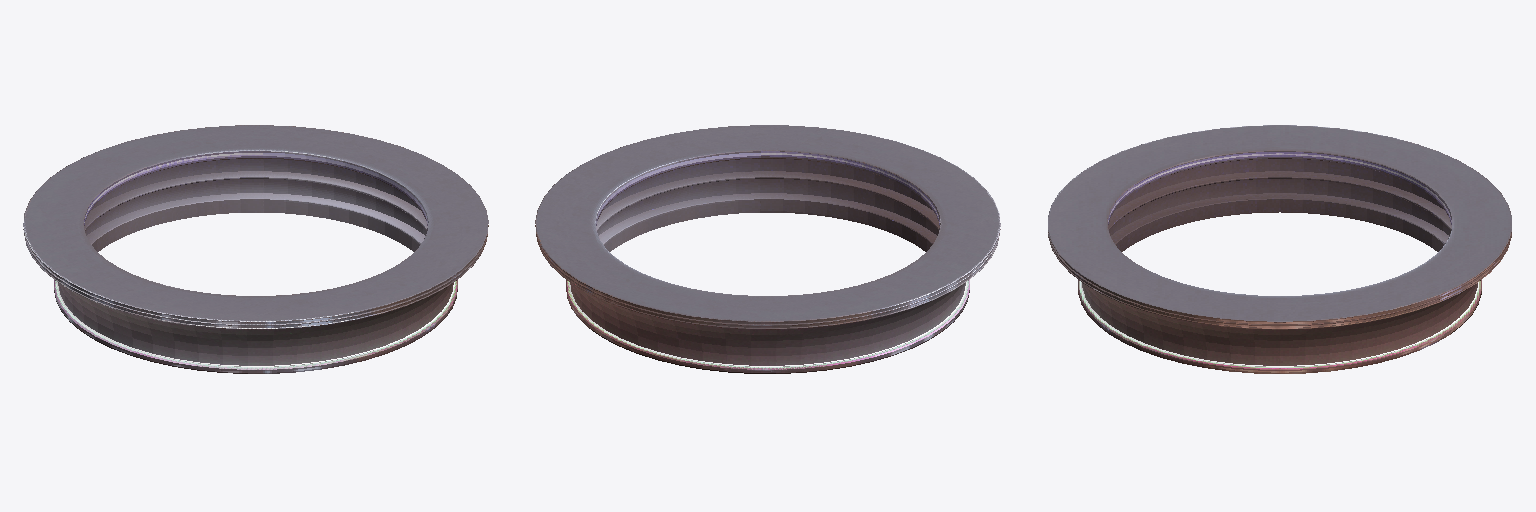
3 renders of one model, left to right at view 1: azimuth 30°, elevation 25°; view 2: azimuth 150°, elevation 25°; view 3: azimuth 270°, elevation 25°, orthographic.
Visible parts, largest first — view 1: bar; view 2: bar; view 3: bar.
Part boxes in pixels (x1,y1,x2,y2): bar: (23, 125, 488, 373); bar: (535, 125, 1000, 373); bar: (1048, 125, 1511, 373).
Bounding box in the file's own units: 6.46 × 1.01 × 6.44.
1 materials, 1 textured.